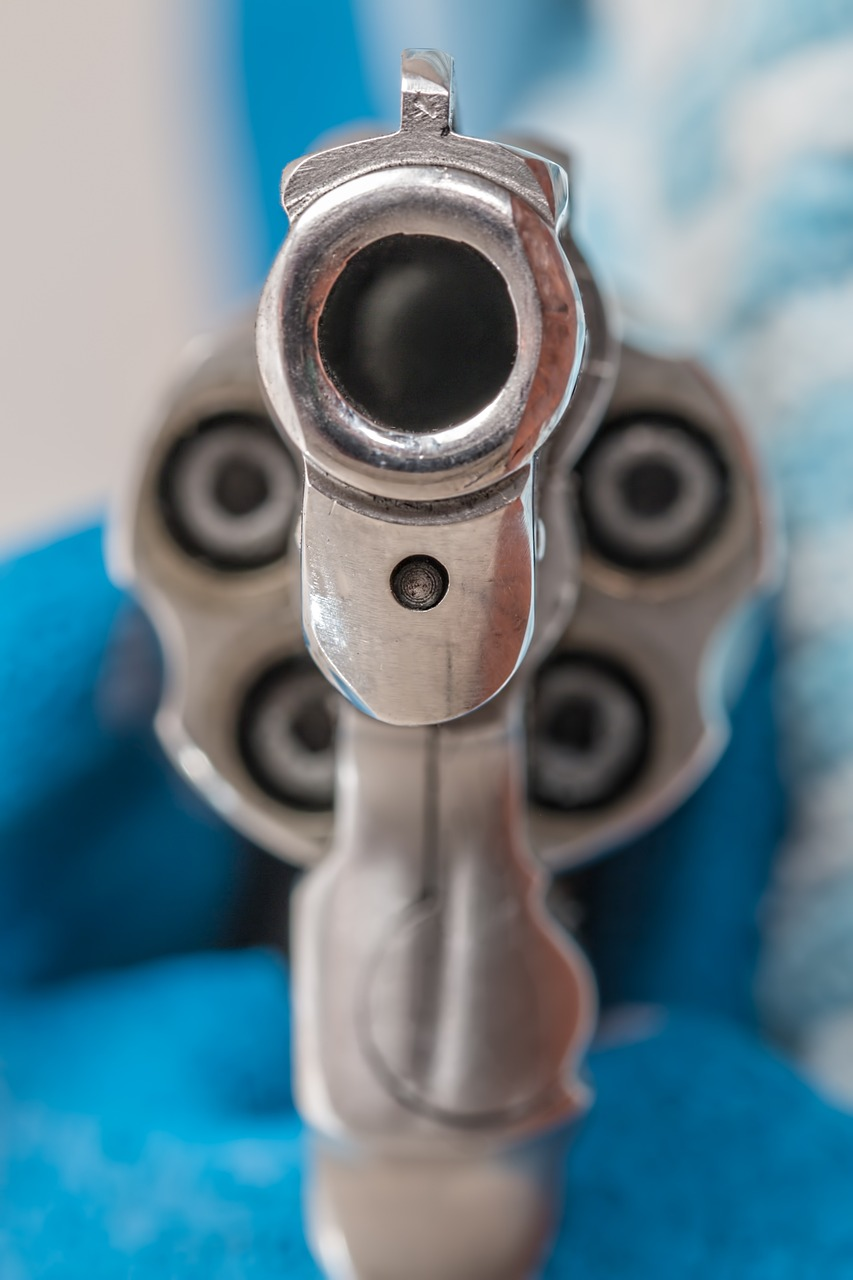gun: (92, 33, 800, 1275)
